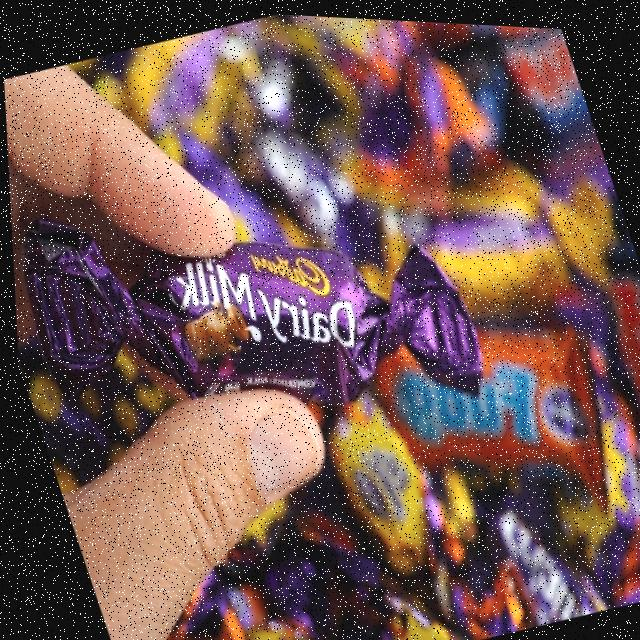cadbury: (4, 104, 497, 511)
